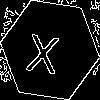X: (25, 25, 62, 74)
